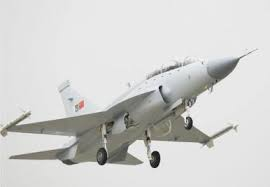fighter: (1, 53, 250, 169)
